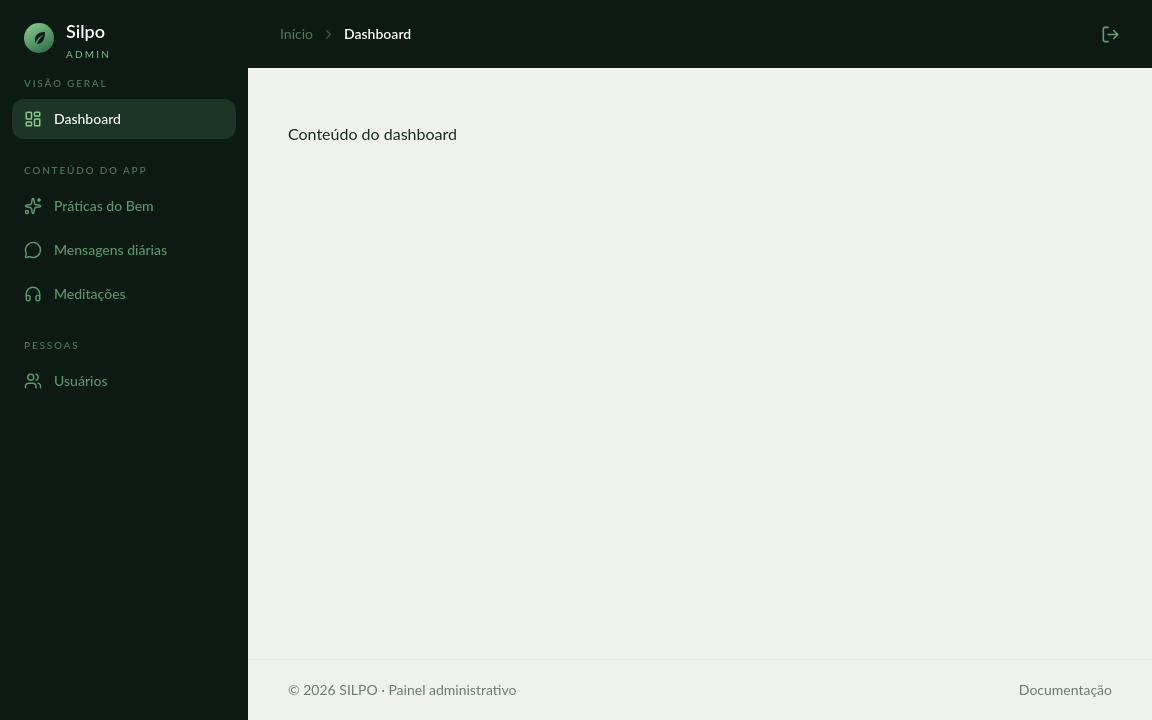
Scenario: AdminLayout › navigates between pages through the sidebar
The width and height of the screenshot is (1152, 720).
Click the link "Mensagens diárias": x=96, y=250 [24,241,167,259]
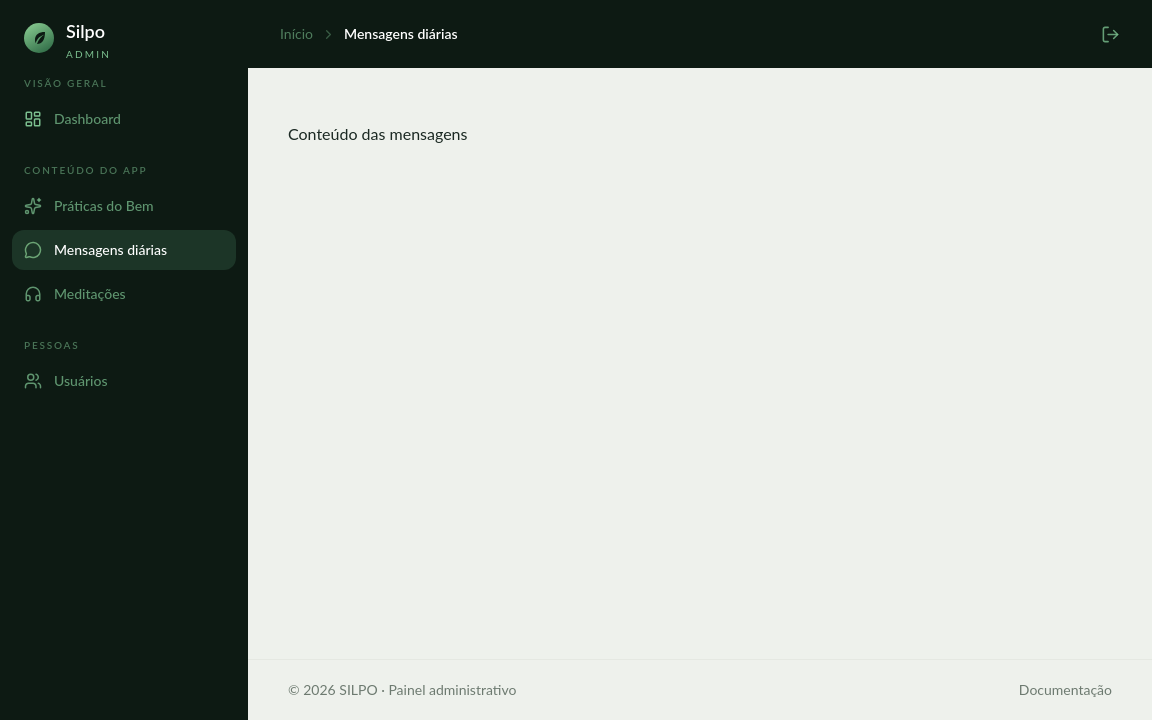
Check: the text "Conteúdo das mensagens" is shown, box [288,124,468,143]
